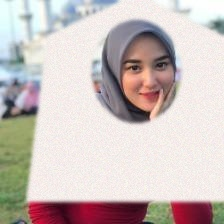Mukena: (26, 0, 224, 201)
